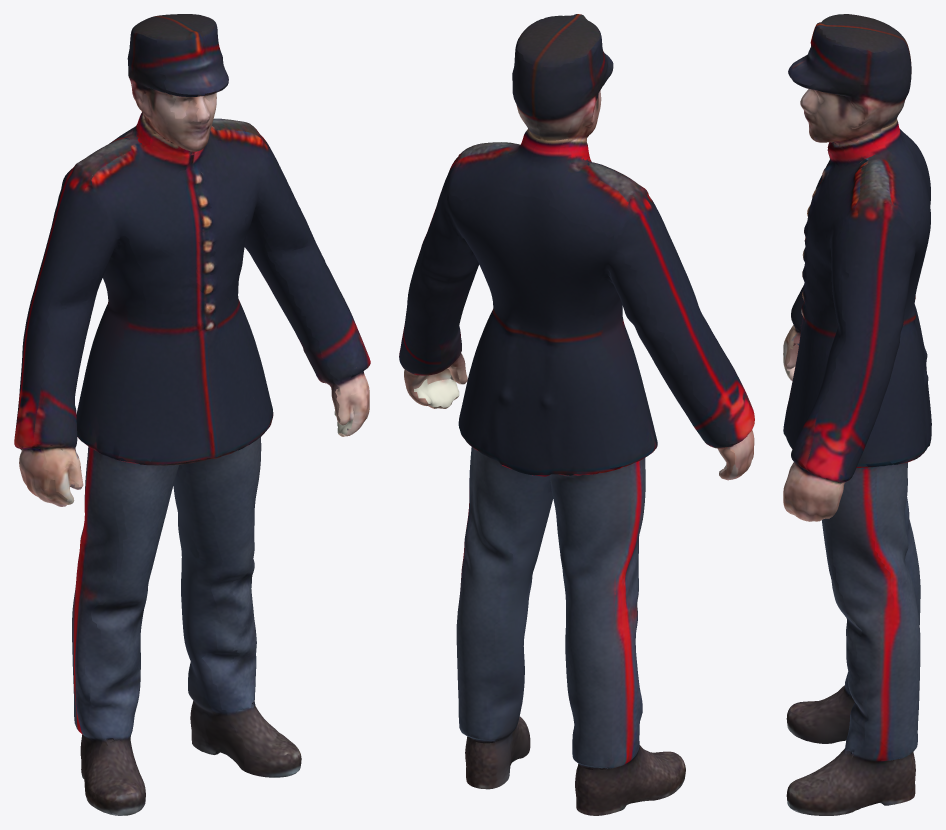
The picture shows the model from 3 angles, left to right: view 1: azimuth 30°, elevation 25°; view 2: azimuth 150°, elevation 25°; view 3: azimuth 270°, elevation 25°; orthographic projection.
Parts seen in each view (by area): view 1: tmpetxszs3c.ply; view 2: tmpetxszs3c.ply; view 3: tmpetxszs3c.ply.
Boxes of the visible parts, <box> form: tmpetxszs3c.ply: <box>14,14,370,815</box>; tmpetxszs3c.ply: <box>399,14,754,815</box>; tmpetxszs3c.ply: <box>783,14,931,815</box>.
Size of the model in its own units: 0.959 by 1.99 by 0.3591.
Materials: 1 (1 with a texture image).
